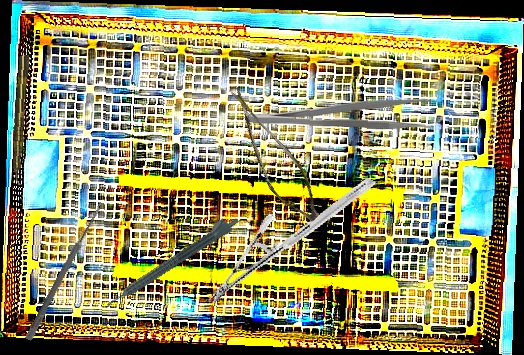Dressing Forceps: (244, 94, 434, 131)
Handpiece: (100, 209, 242, 311), (9, 54, 31, 186)
Micro Scissor: (203, 86, 340, 228)
Needle Holder: (207, 138, 376, 344)
Surgical Spoon: (24, 200, 106, 342)
